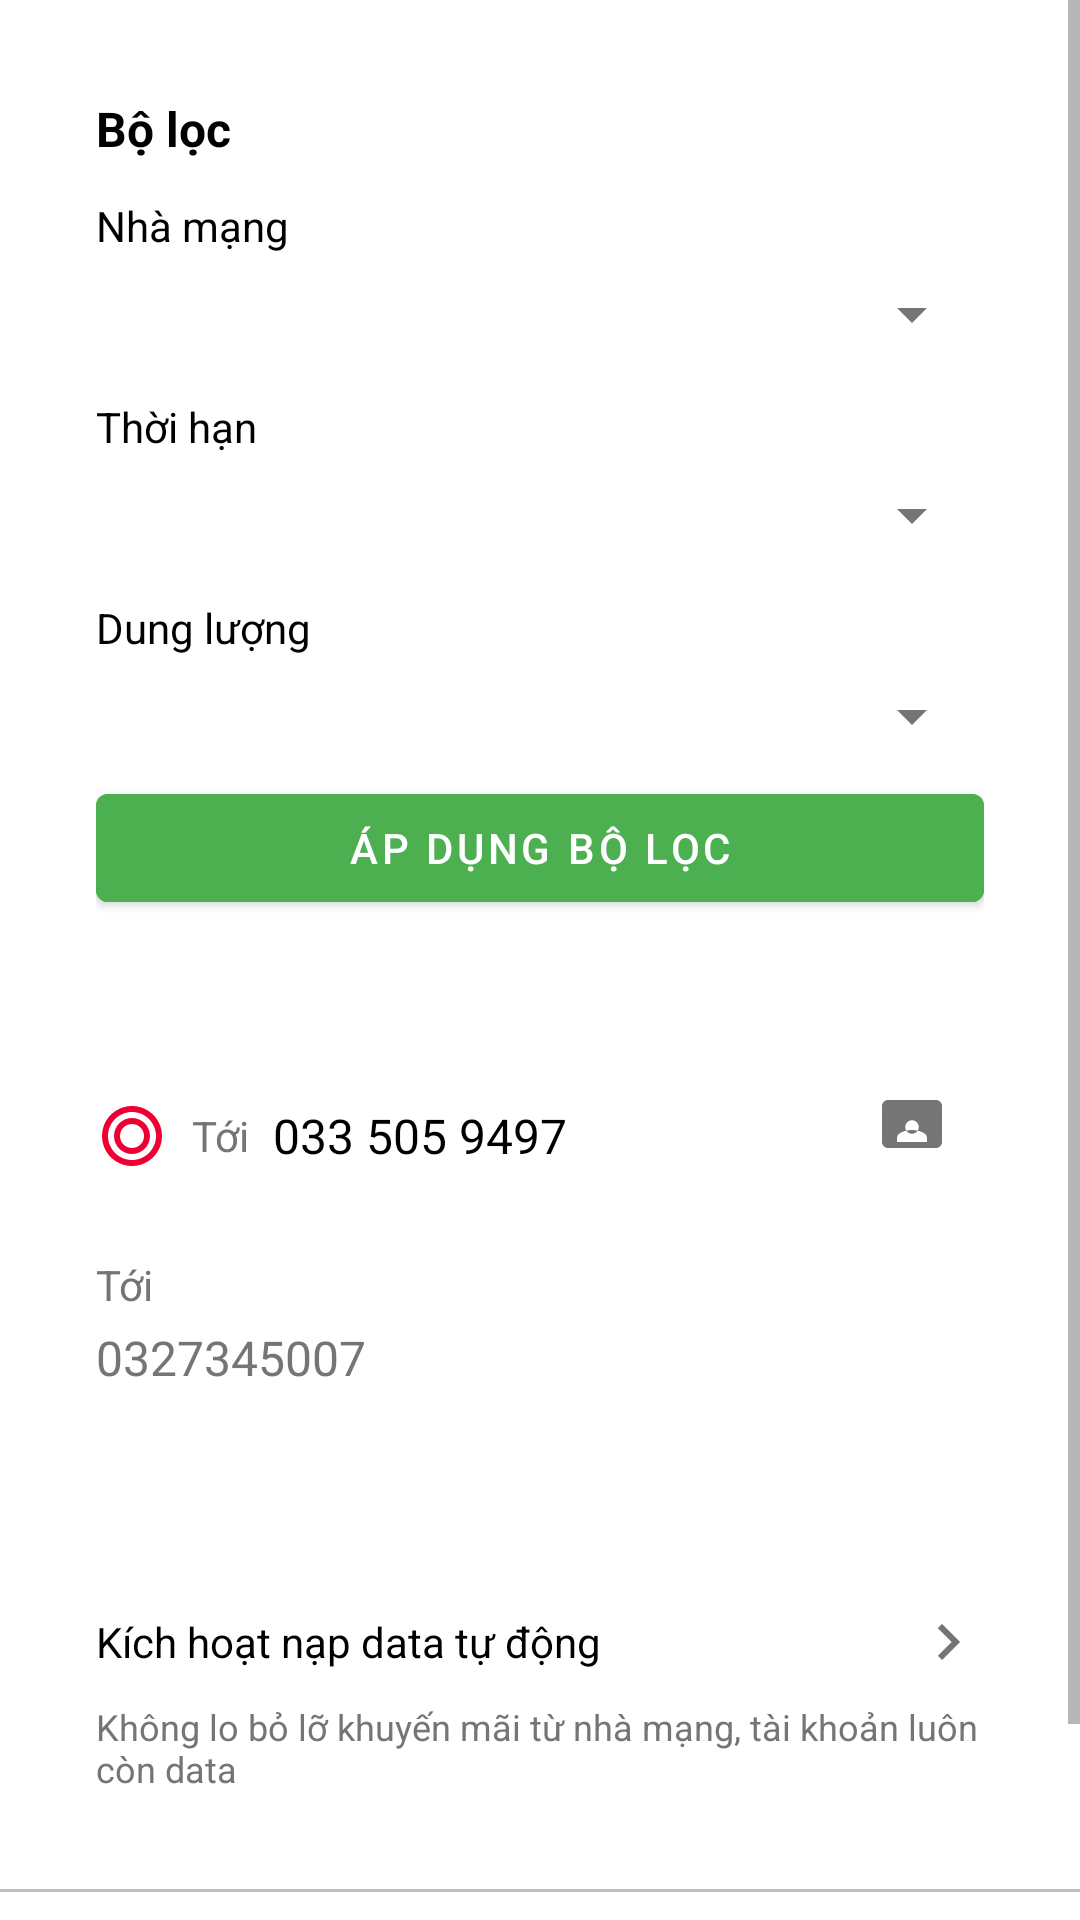

Named icons in this screenshot (1080x1920) and their bounding boxes, (x1, y1, x2, y2):
arrow right: (938, 1624, 960, 1660)
Chọn từ danh bạ: (882, 1100, 942, 1148)
